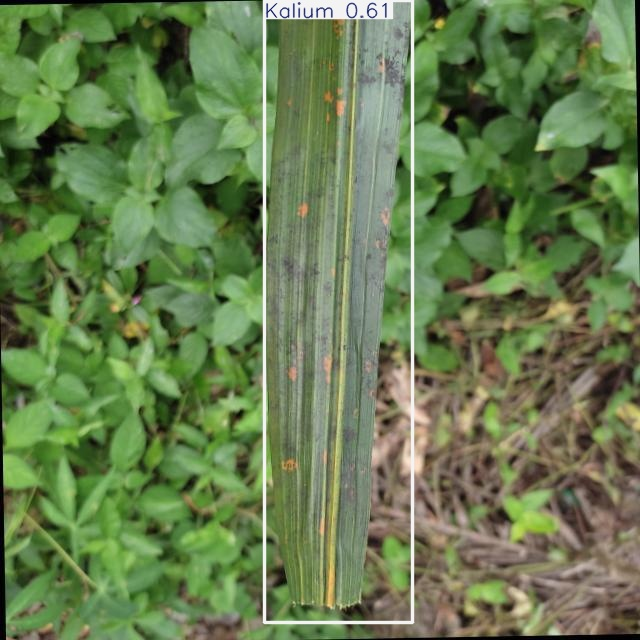Kalium: (265, 0, 412, 622)
